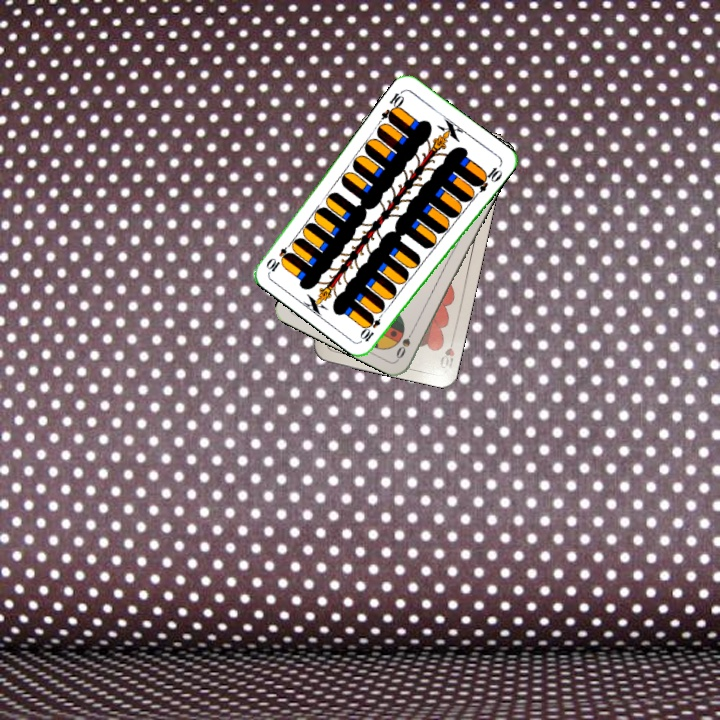E10: (377, 87, 407, 125), (357, 307, 387, 344)
H10: (435, 332, 457, 371)
SO: (392, 324, 417, 361)
